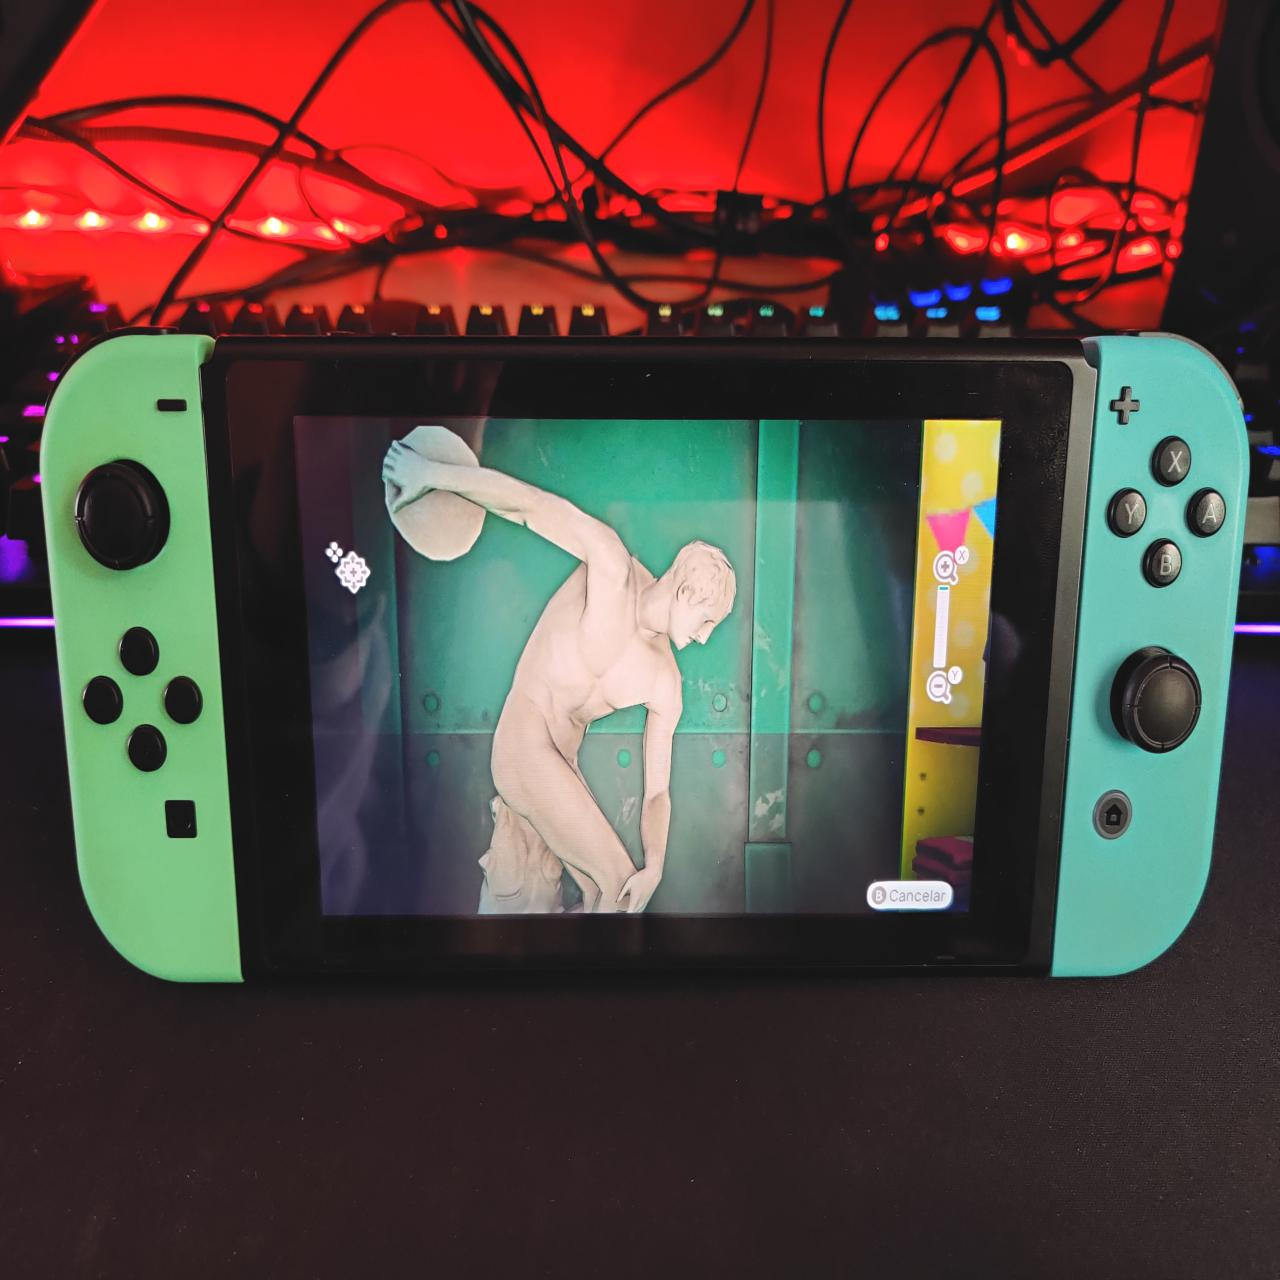Diskobolos: (377, 418, 743, 911)
